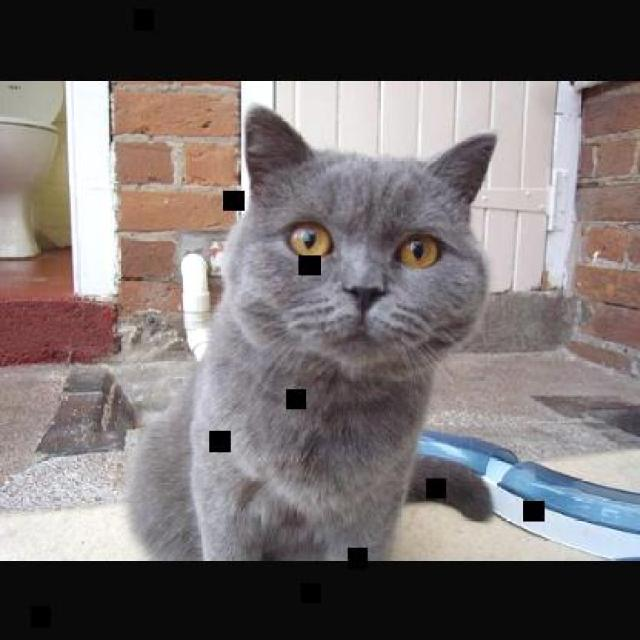unauthorized: (123, 103, 497, 560)
